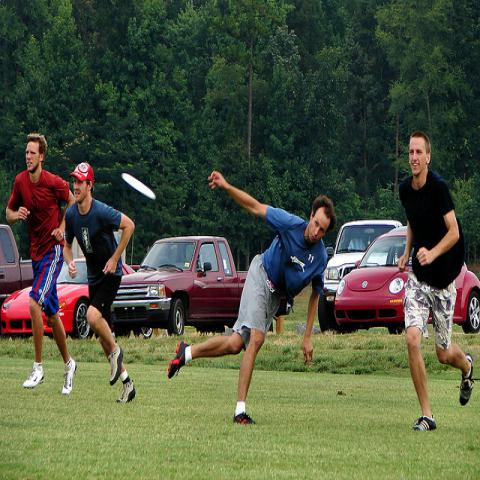car: (334, 230, 480, 338), (0, 255, 137, 341), (318, 220, 403, 333)
truck: (110, 235, 273, 340), (318, 220, 403, 333), (0, 224, 34, 306)
